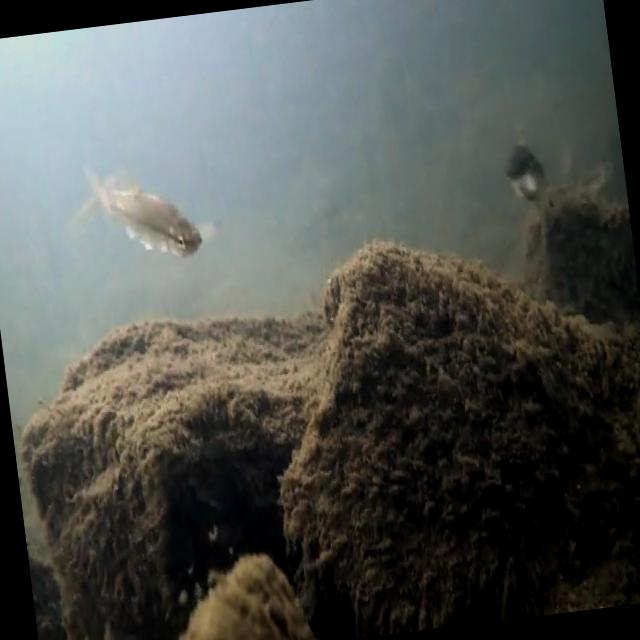Cakil Baligi: (72, 144, 206, 272)
